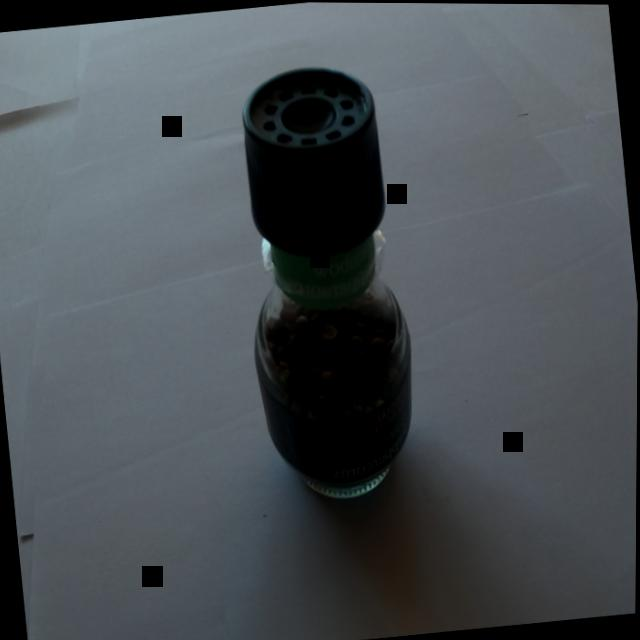Blackpepper: (208, 36, 447, 528)
